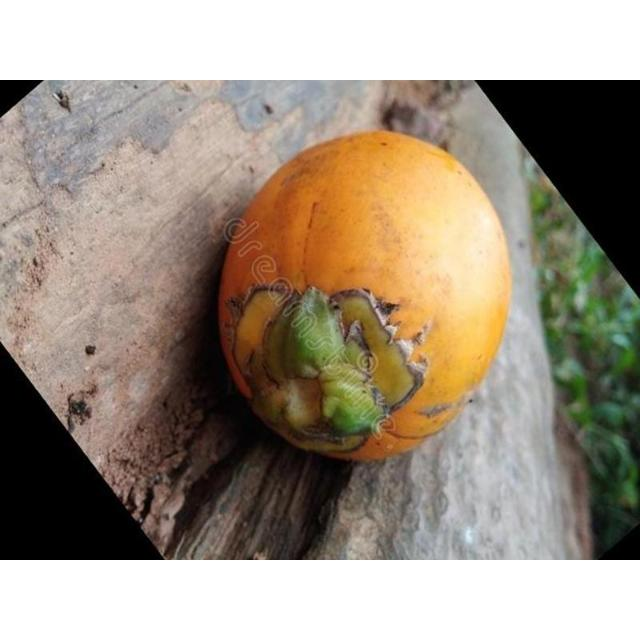good: (215, 130, 513, 465)
